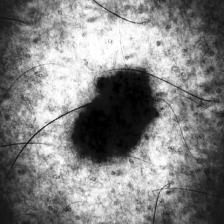Benign Marking or Mole: (74, 72, 156, 160)
